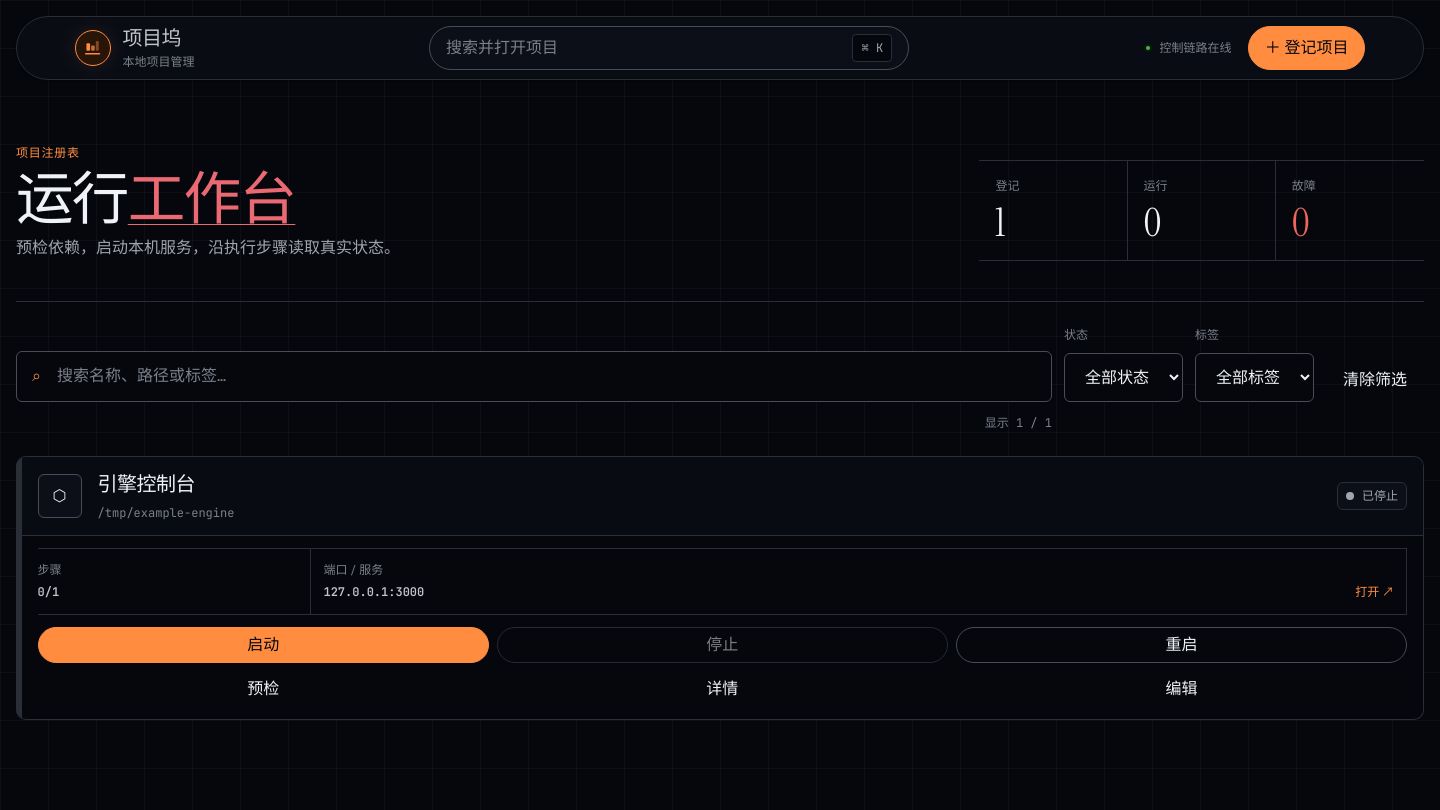
it: 项目控制台 › 渲染真实项目并可按关键字筛选
This screenshot has width=1440, height=810.
Check: the link "引擎控制台" is shown, box [98,471,195,497]
Check: the text "127.0.0.1:3000" is shown, box [324,584,424,600]
Type "不存在" into the field with placeholder "搜索名称、路径或标签…" at (534, 376), box [16,351,1052,402]
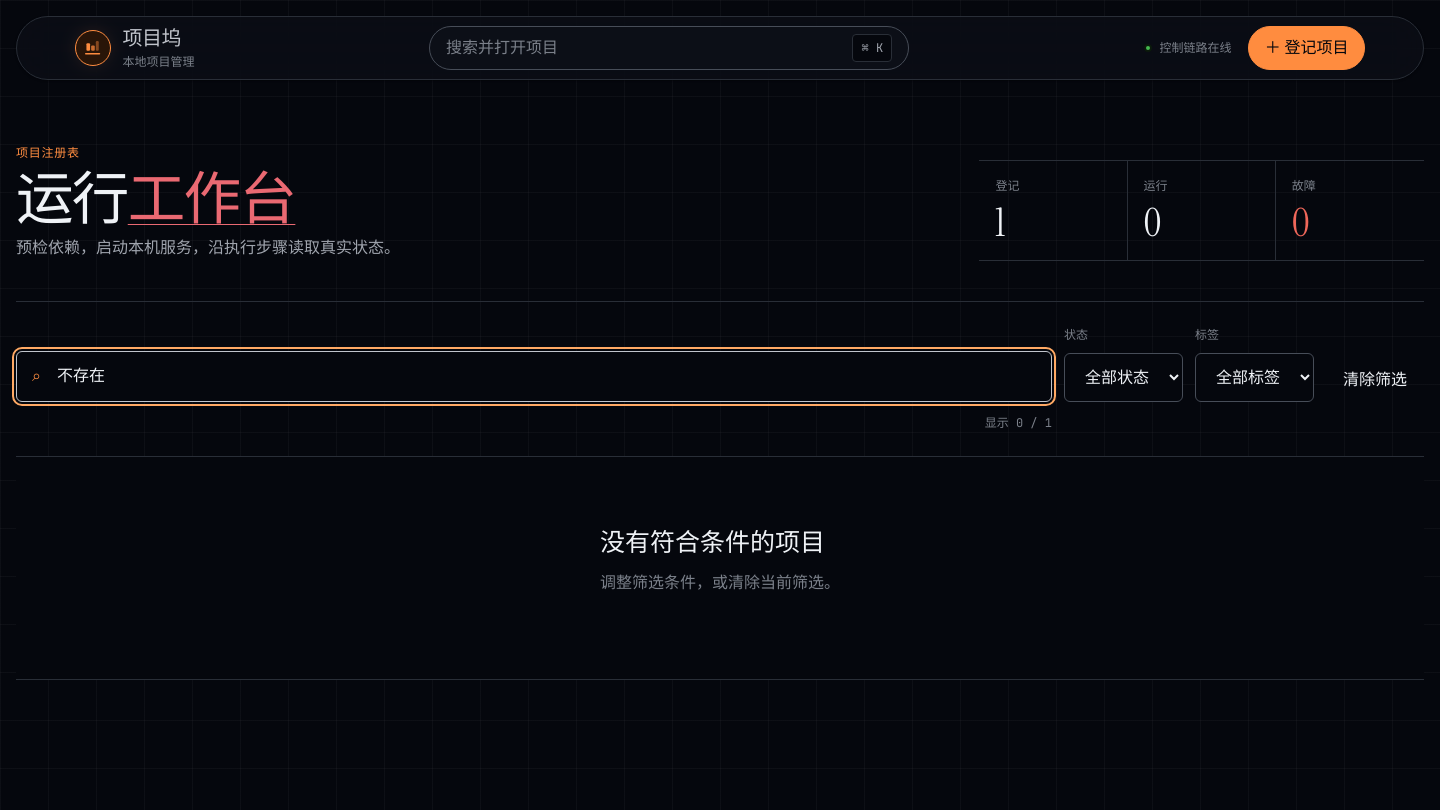
Check: the text "没有符合条件的项目" is shown, box [600,524,825,563]
